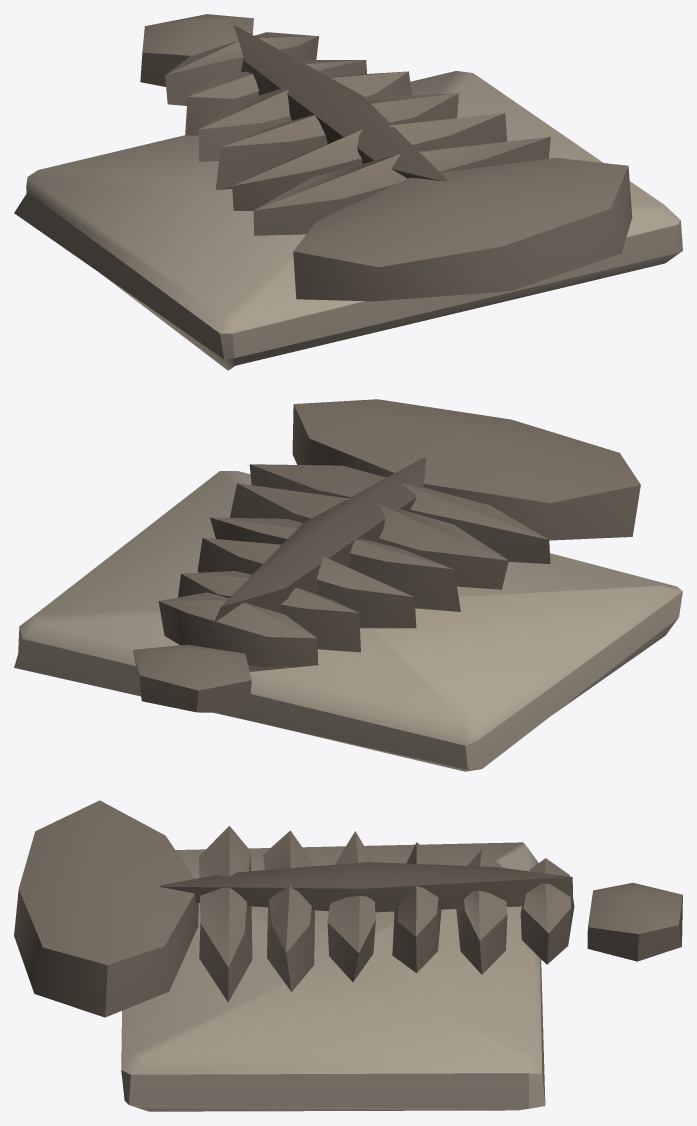
File: find_trilobite.glb
3 views of the same model, one above another, from view 1: azimuth 30°, elevation 25°; view 2: azimuth 150°, elevation 25°; view 3: azimuth 270°, elevation 25° (orthographic).
Parts seen in each view (by area): view 1: find_trilobite; view 2: find_trilobite; view 3: find_trilobite.
Boxes of the visible parts, x1,y1,x2,y2 form: find_trilobite: (14, 14, 682, 370); find_trilobite: (14, 399, 682, 771); find_trilobite: (14, 800, 682, 1111).
Bounding box in the file's own units: 0.0707 × 0.021 × 0.0883.
